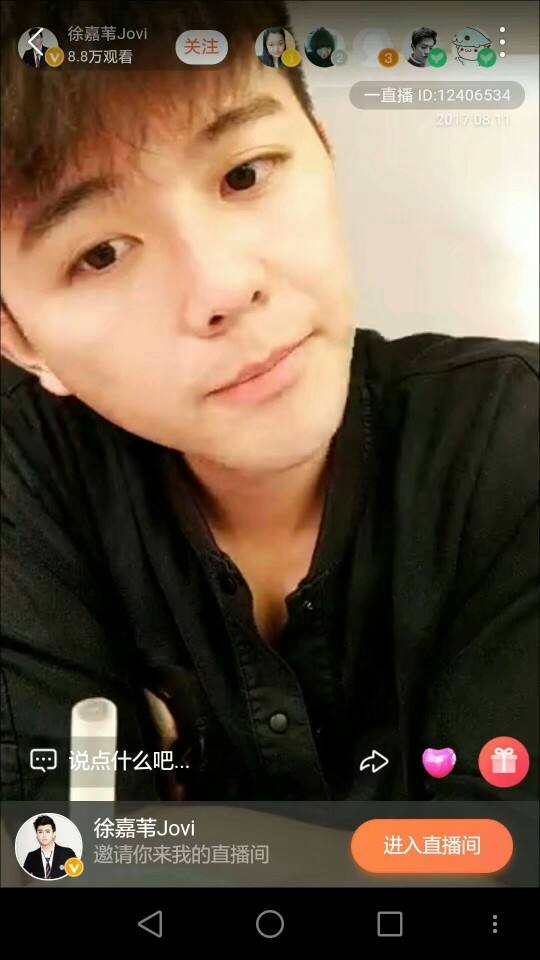person: (27, 54, 407, 510)
